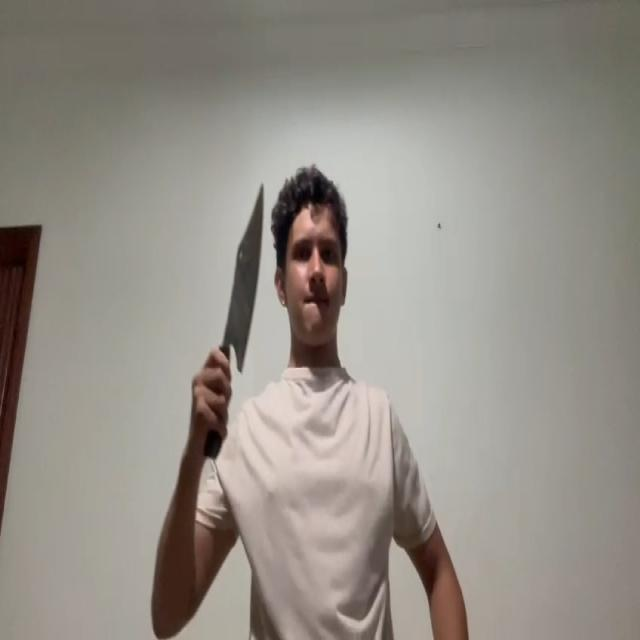knife: (220, 182, 265, 368)
